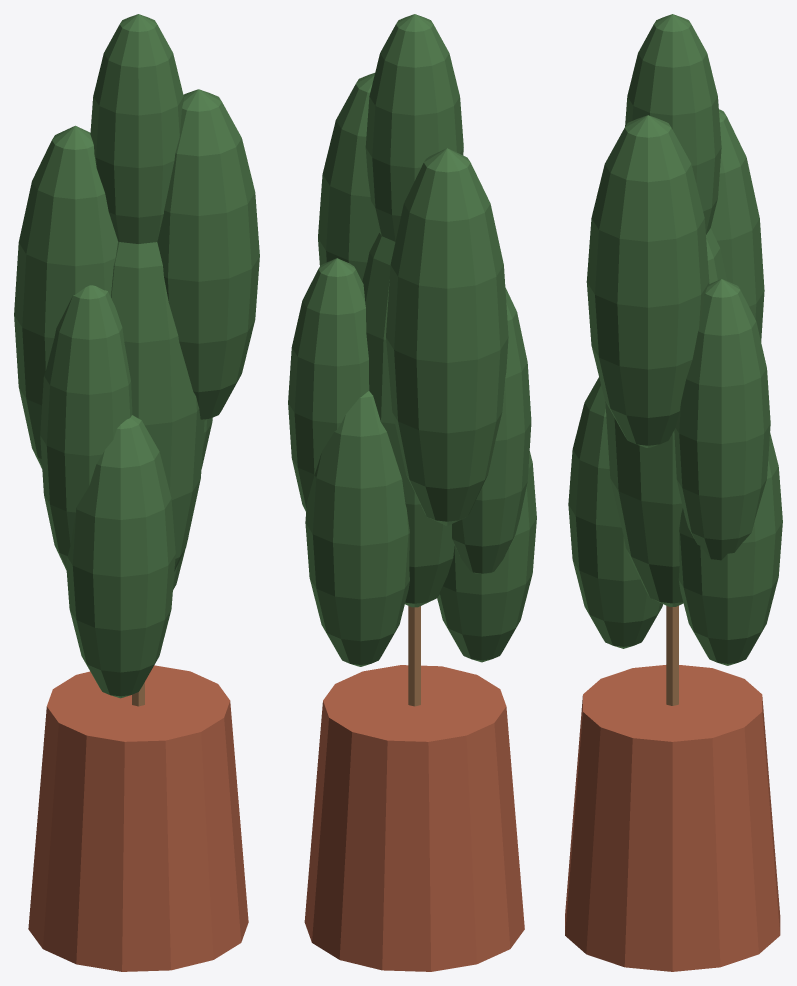
The model's file is planta_grande.glb.
3 views of the same model, side by side, from view 1: azimuth 30°, elevation 25°; view 2: azimuth 150°, elevation 25°; view 3: azimuth 270°, elevation 25° (orthographic).
Visible parts, largest first — view 1: planta_grande; view 2: planta_grande; view 3: planta_grande.
Part boxes in pixels (bbox=[...]): planta_grande: bbox=[14, 14, 259, 971]; planta_grande: bbox=[288, 14, 536, 971]; planta_grande: bbox=[565, 14, 782, 971].
Size of the model in its own units: 0.38 by 1.64 by 0.3554.
